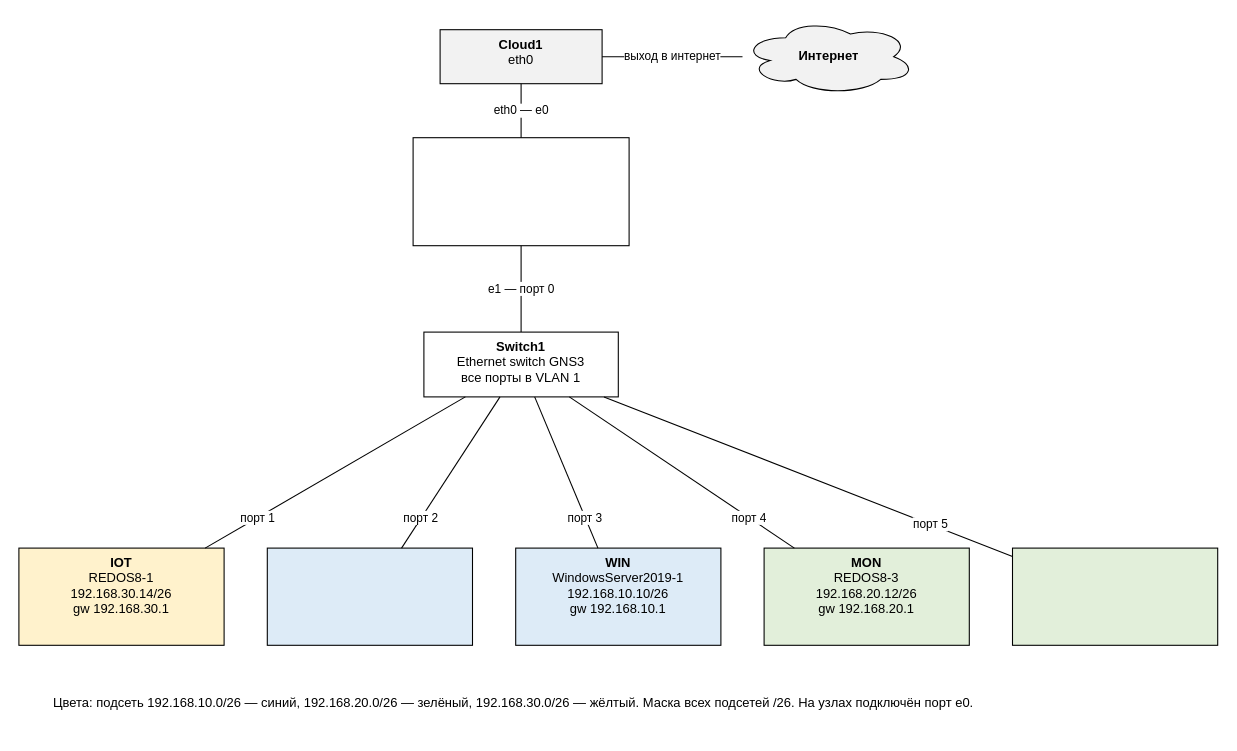
Some shapes in this 1237 by 751 pixel diagram are drawn without their labels. Each missing label, with the centre of its shape:
CTRL REDOS8-2 192.168.10.11/26 gw 192.168.10.1: the point at 369,596
DB REDOS8-4 192.168.20.13/26 gw 192.168.20.1: the point at 1114,596
RTR e0: DHCP (внешний канал) e1: 192.168.10.1/26 192.168.20.1/26 192.168.30.1/26: the point at 520,191
